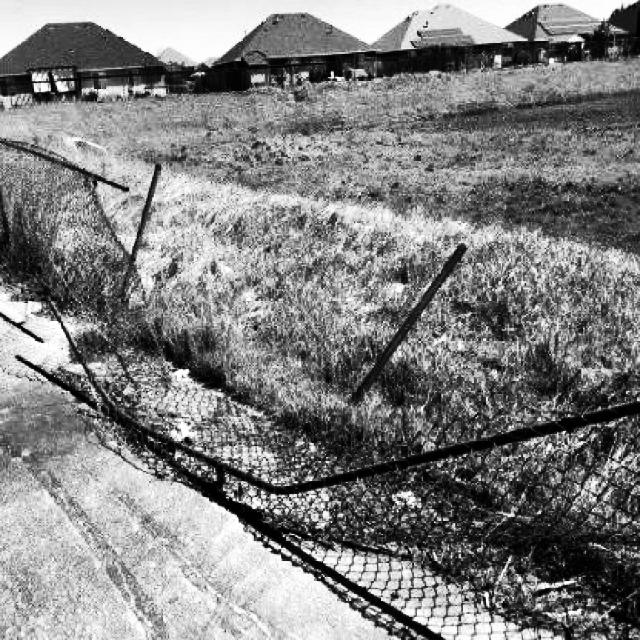anomaly-fence: (6, 115, 640, 640)
